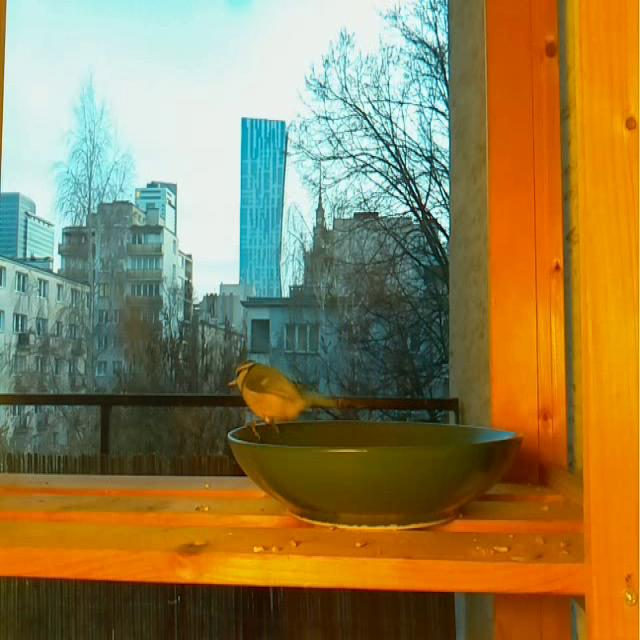Modraszka: (226, 356, 334, 427)
